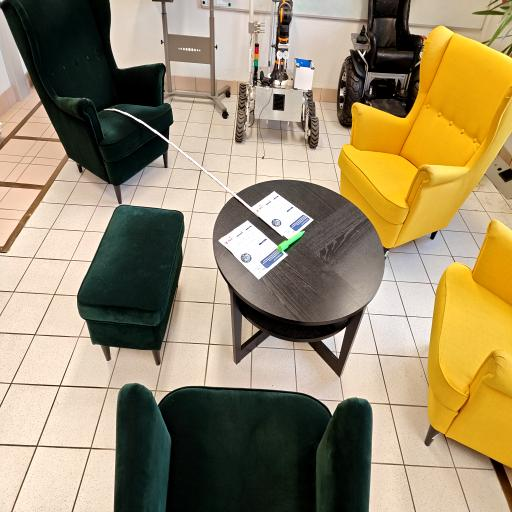Probe-Detection: (278, 231, 305, 252)
